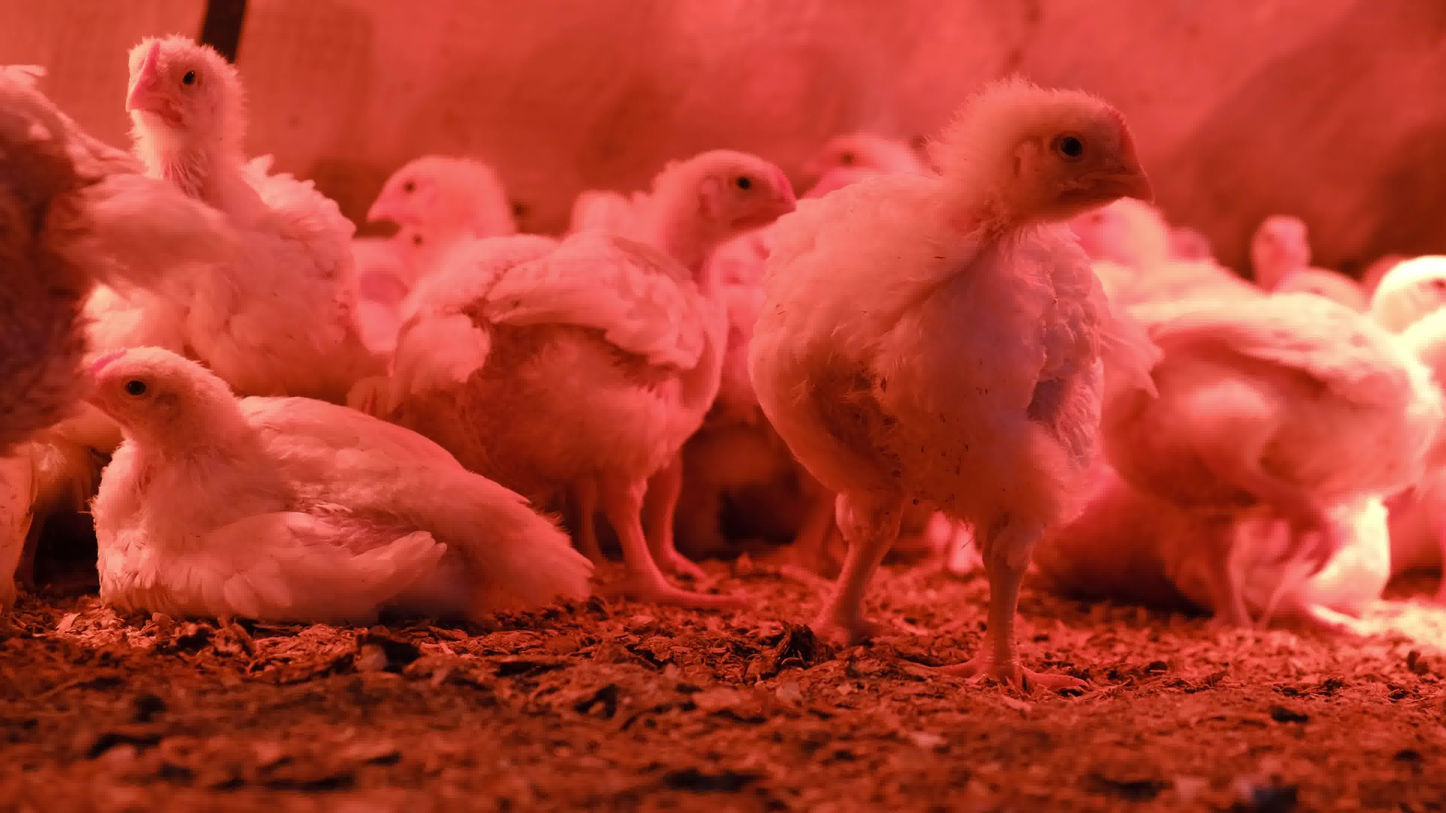AbNormal: (76, 349, 588, 633), (1156, 493, 1394, 637)
Normal: (742, 83, 1156, 684), (403, 149, 799, 593), (1102, 249, 1446, 632), (87, 36, 366, 383), (0, 64, 236, 455), (358, 155, 516, 243), (1072, 192, 1166, 282), (806, 130, 923, 187), (1254, 206, 1314, 295), (379, 227, 456, 285)
